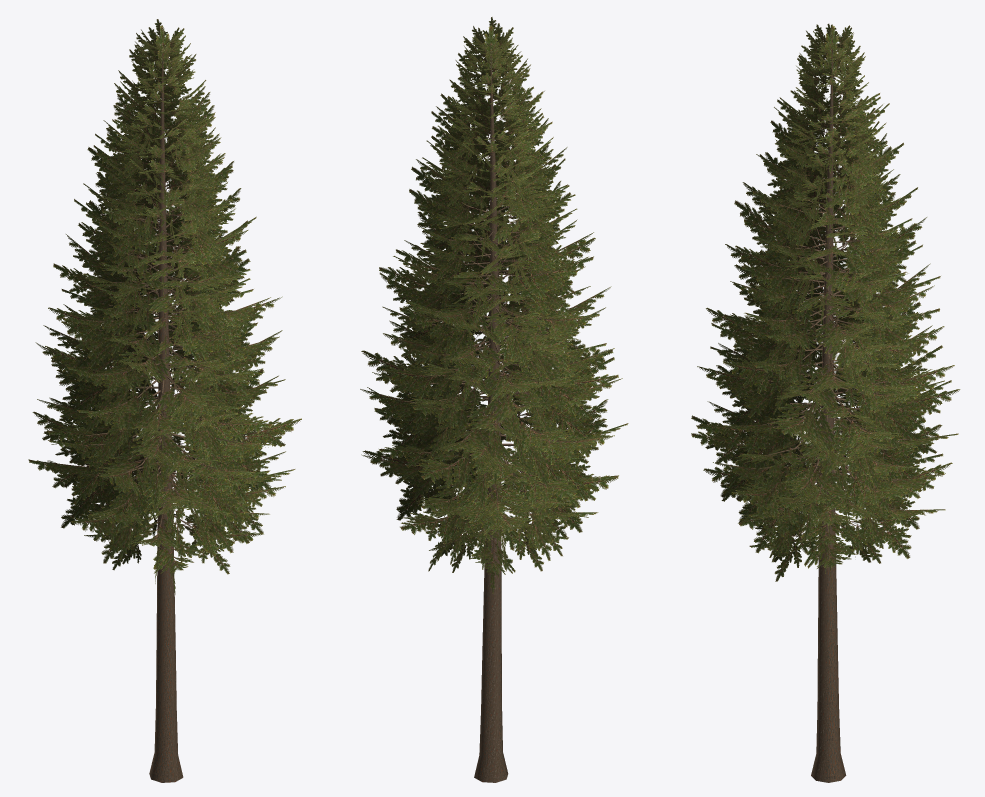
File: fir_tall_b_lod1.gltf
3 views of the same model, side by side, from view 1: azimuth 30°, elevation 25°; view 2: azimuth 150°, elevation 25°; view 3: azimuth 270°, elevation 25° (orthographic).
Parts seen in each view (by area): view 1: fir_tall_b_LOD1; view 2: fir_tall_b_LOD1; view 3: fir_tall_b_LOD1.
Part boxes in pixels (bbox=[...]): fir_tall_b_LOD1: bbox=[28, 19, 301, 782]; fir_tall_b_LOD1: bbox=[360, 17, 628, 782]; fir_tall_b_LOD1: bbox=[691, 23, 960, 782].
Size of the model in its own units: 11.98 by 33.59 by 12.15.
Materials: 2 (2 with a texture image).
